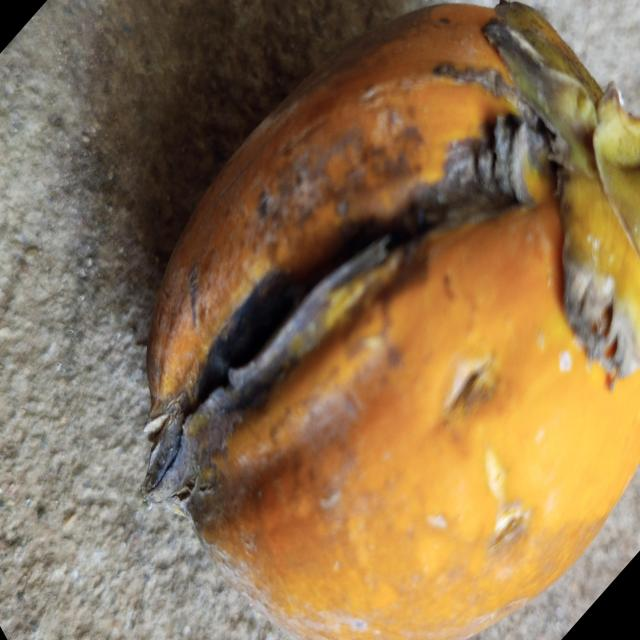damaged: (144, 4, 640, 638)
